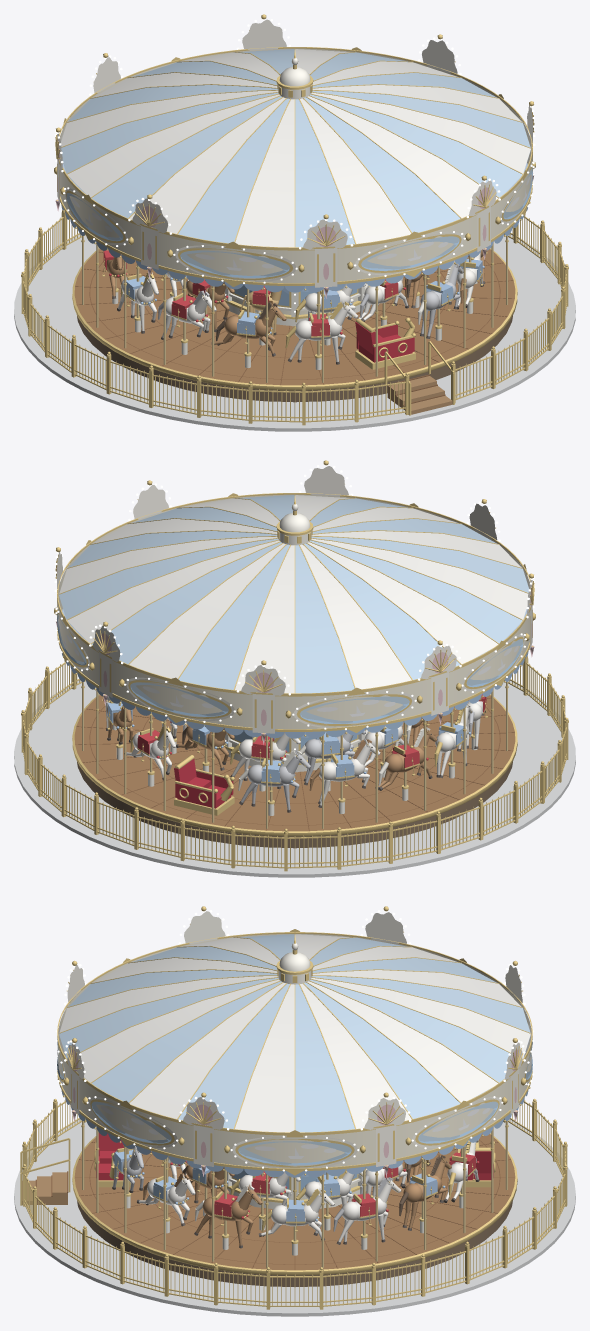
3 views of the same model, one above another, from view 1: azimuth 30°, elevation 25°; view 2: azimuth 150°, elevation 25°; view 3: azimuth 270°, elevation 25° (orthographic).
Parts seen in each view (by area): view 1: rotor, base, lift1, lift2, lift0; view 2: rotor, base, lift0, lift2, lift1; view 3: rotor, base, lift0, lift2, lift1.
Part boxes in pixels (x1=…): rotor: x1=54, y1=14, x2=535, y2=390; base: x1=14, y1=210, x2=575, y2=431; lift1: x1=102, y1=248, x2=463, y2=356; lift2: x1=117, y1=252, x2=484, y2=364; lift0: x1=158, y1=250, x2=487, y2=340; rotor: x1=54, y1=460, x2=535, y2=836; base: x1=14, y1=656, x2=575, y2=877; lift0: x1=124, y1=694, x2=487, y2=807; lift2: x1=106, y1=700, x2=472, y2=812; lift1: x1=102, y1=696, x2=485, y2=790; rotor: x1=55, y1=906, x2=534, y2=1275; base: x1=14, y1=1098, x2=575, y2=1316; lift0: x1=194, y1=1140, x2=479, y2=1248; lift2: x1=137, y1=1145, x2=479, y2=1230; lift1: x1=112, y1=1146, x2=430, y2=1244.
Size of the model in its own units: 15.2 by 8.11 by 15.2.
